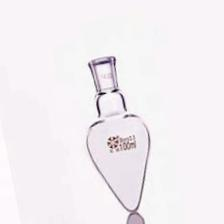Pear shaped flask: (69, 58, 161, 212)
